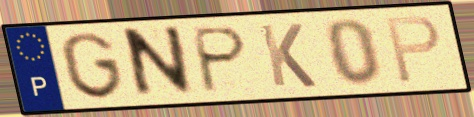0: (322, 17, 387, 89)
G: (58, 30, 128, 102)
K: (256, 22, 320, 89)
N: (123, 22, 197, 103)
P: (382, 13, 443, 86), (191, 24, 251, 96)
